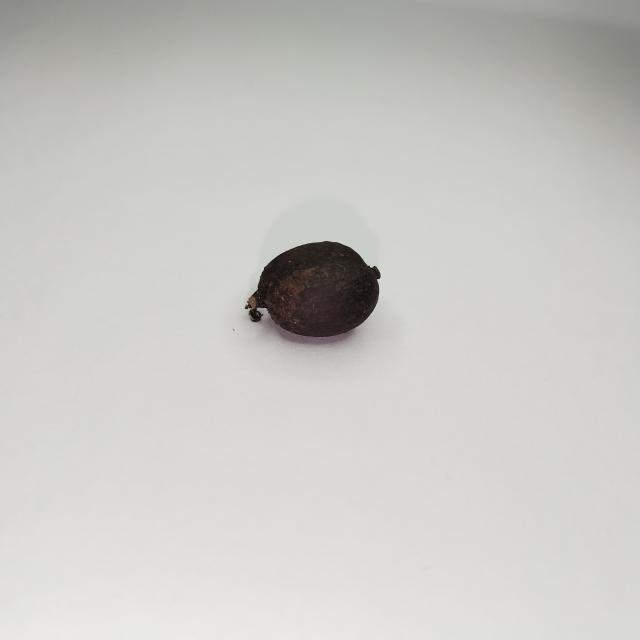Danado: (244, 243, 380, 340)
